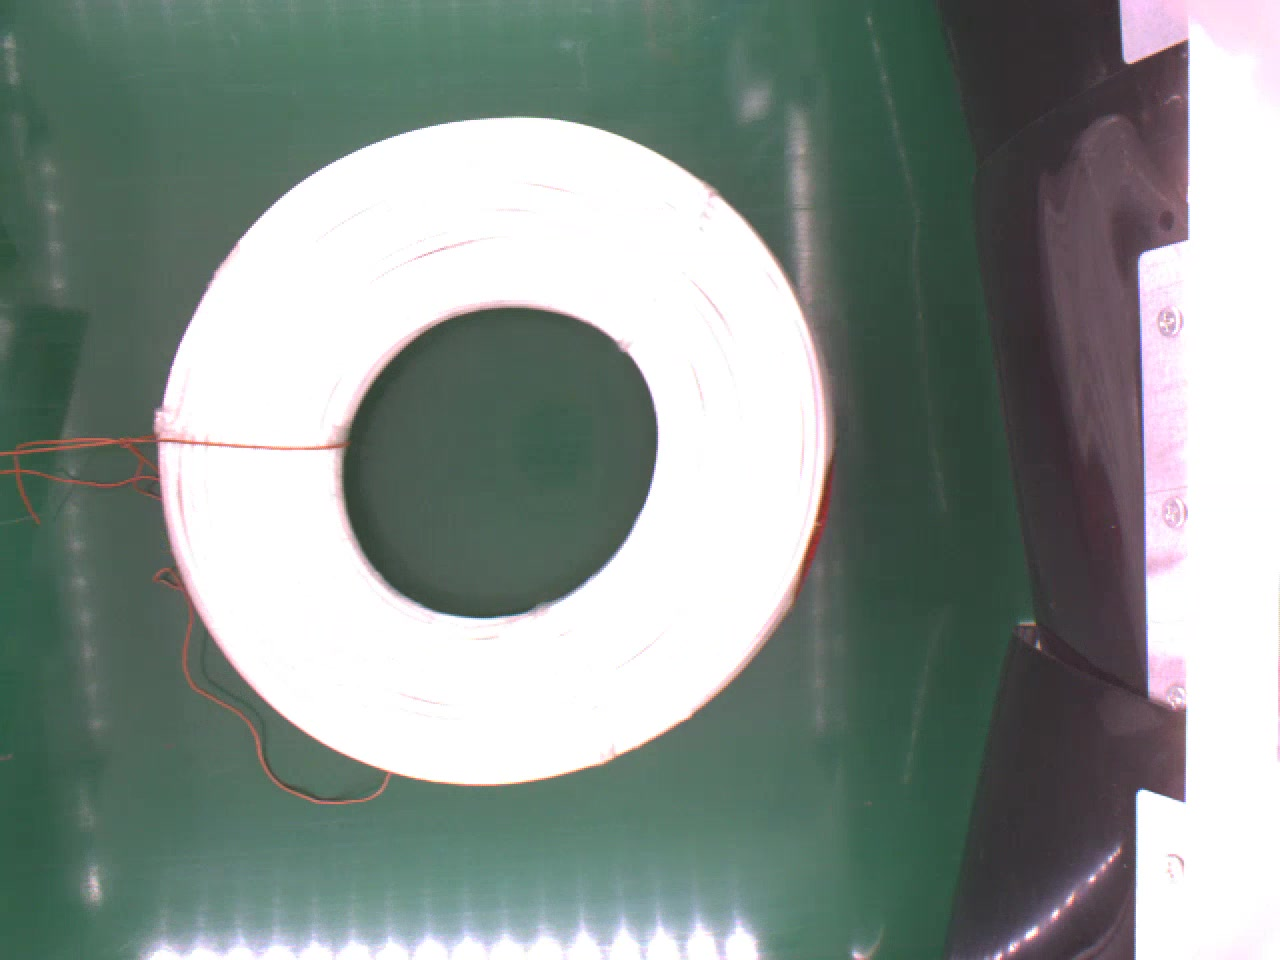white: (154, 113, 838, 785)
